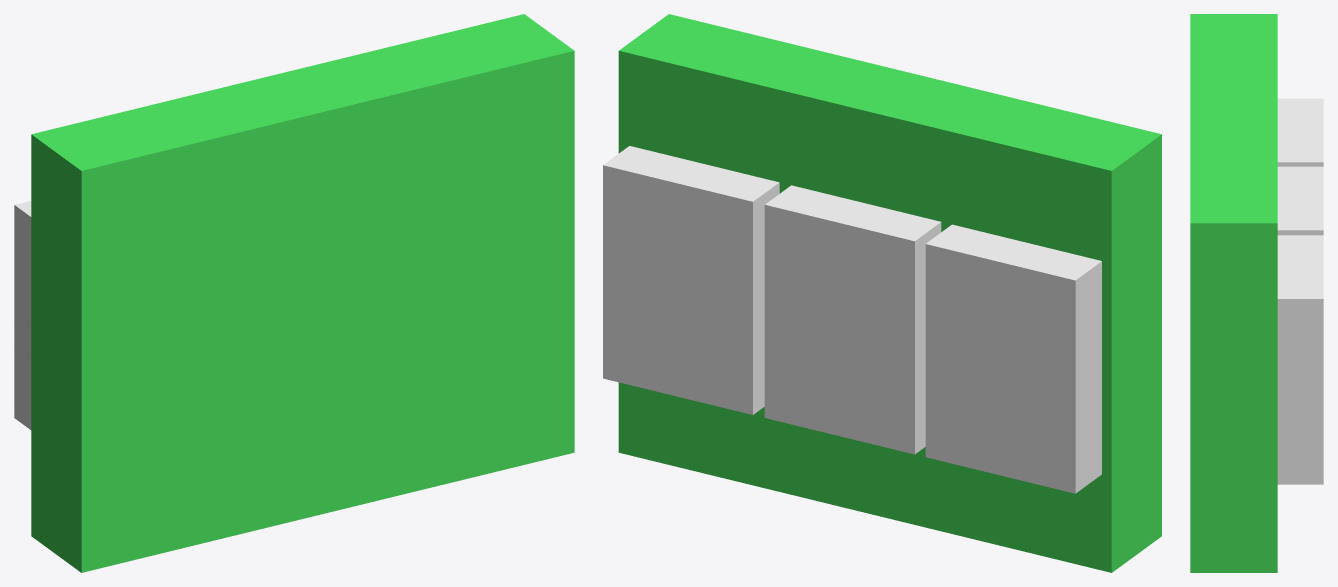
The model's file is Slots2.fbx.
3 renders of one model, left to right at view 1: azimuth 30°, elevation 25°; view 2: azimuth 150°, elevation 25°; view 3: azimuth 270°, elevation 25°, orthographic. The views are drawn at different scales.
Visible parts, largest first — view 1: Slots, Cylindar__2_; view 2: Slots, Cylindar__2_, Cylindar__1_, Cylindar__3_; view 3: Slots, Cylindar__1_, Cylindar__3_, Cylindar__2_.
Part boxes in pixels (bbox=[...]): Slots: bbox=[31, 14, 574, 572]; Cylindar__2_: bbox=[14, 201, 31, 429]; Slots: bbox=[618, 14, 1161, 572]; Cylindar__2_: bbox=[925, 224, 1101, 493]; Cylindar__1_: bbox=[603, 146, 779, 414]; Cylindar__3_: bbox=[764, 185, 941, 454]; Slots: bbox=[1190, 14, 1277, 572]; Cylindar__1_: bbox=[1277, 235, 1323, 484]; Cylindar__3_: bbox=[1277, 166, 1323, 235]; Cylindar__2_: bbox=[1277, 98, 1323, 166].
Size of the model in its own units: 568 by 442 by 153.
